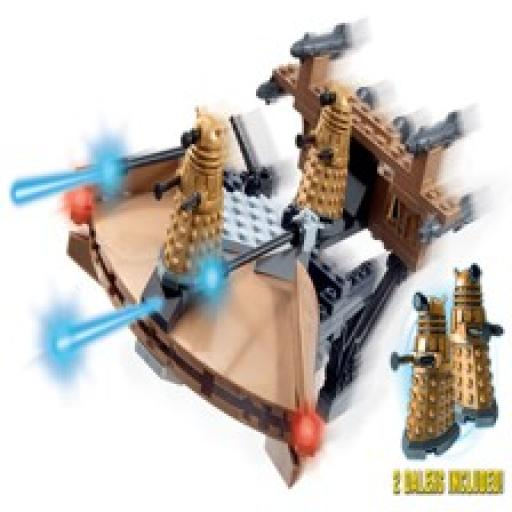dalek: (138, 105, 222, 294), (377, 288, 461, 460), (272, 76, 356, 235), (445, 262, 505, 428)
